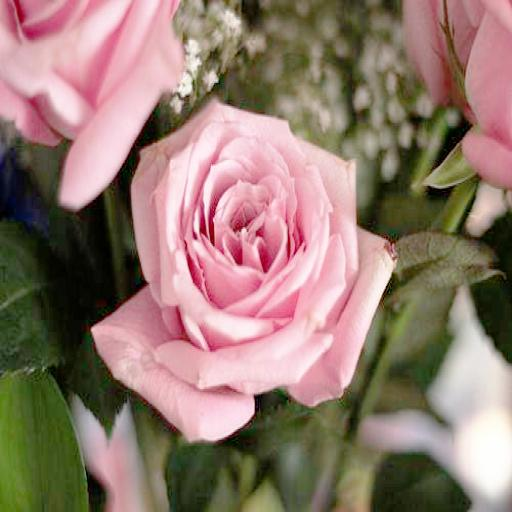rose: (100, 100, 392, 437)
